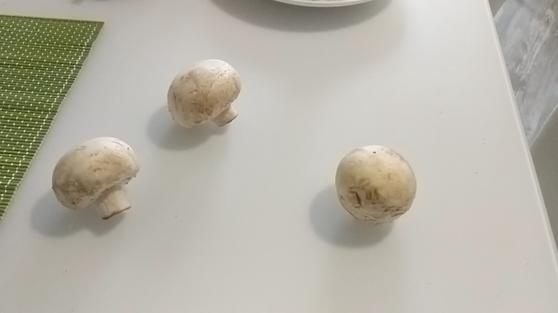champignon: (336, 137, 420, 225), (56, 138, 138, 222), (168, 59, 244, 131)
